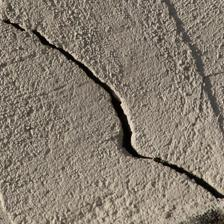Crack: (29, 61, 108, 161), (65, 54, 201, 99)
